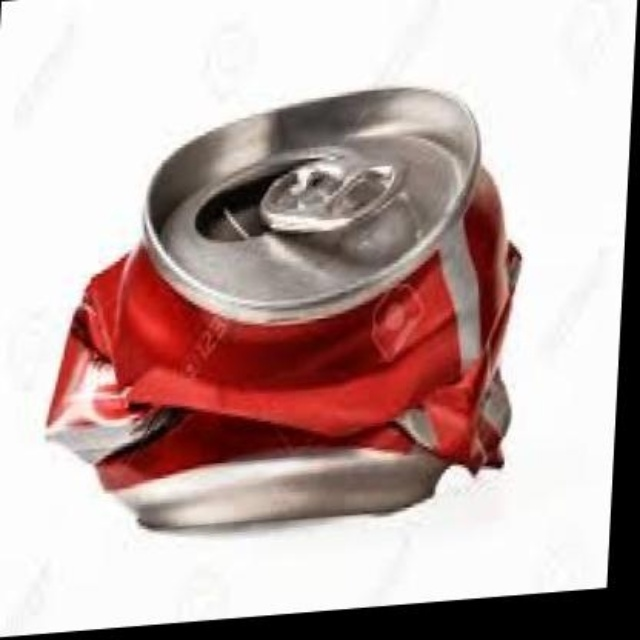trash: (46, 88, 518, 526)
